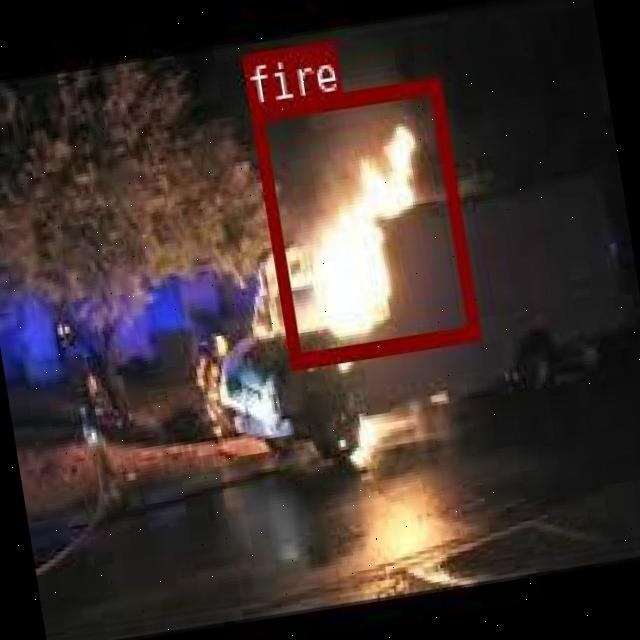fire: (248, 76, 478, 366)
